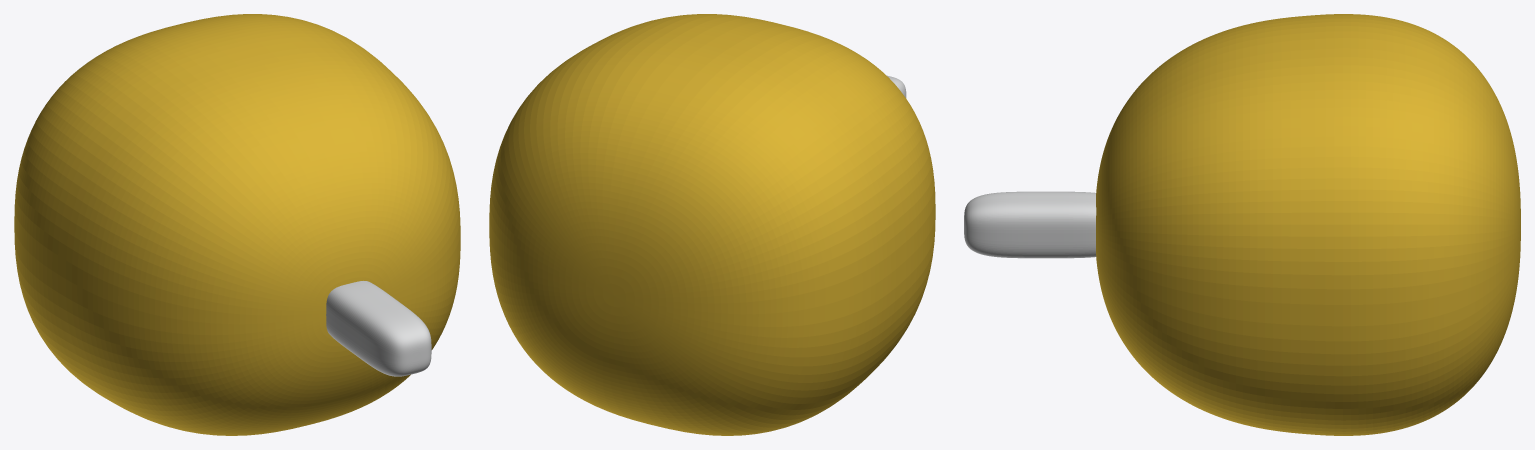
The model's file is red_apple_sq.glb.
3 views of the same model, side by side, from view 1: azimuth 30°, elevation 25°; view 2: azimuth 150°, elevation 25°; view 3: azimuth 270°, elevation 25° (orthographic).
Parts seen in each view (by area): view 1: superquadric_0, superquadric_1; view 2: superquadric_0; view 3: superquadric_0, superquadric_1.
Part boxes in pixels (x1,y1,x2,y2): superquadric_0: [14, 14, 460, 435]; superquadric_1: [326, 281, 431, 376]; superquadric_0: [489, 14, 935, 435]; superquadric_0: [1096, 14, 1520, 435]; superquadric_1: [964, 191, 1096, 258].
Size of the model in its own units: 0.7707 by 0.7115 by 1.
